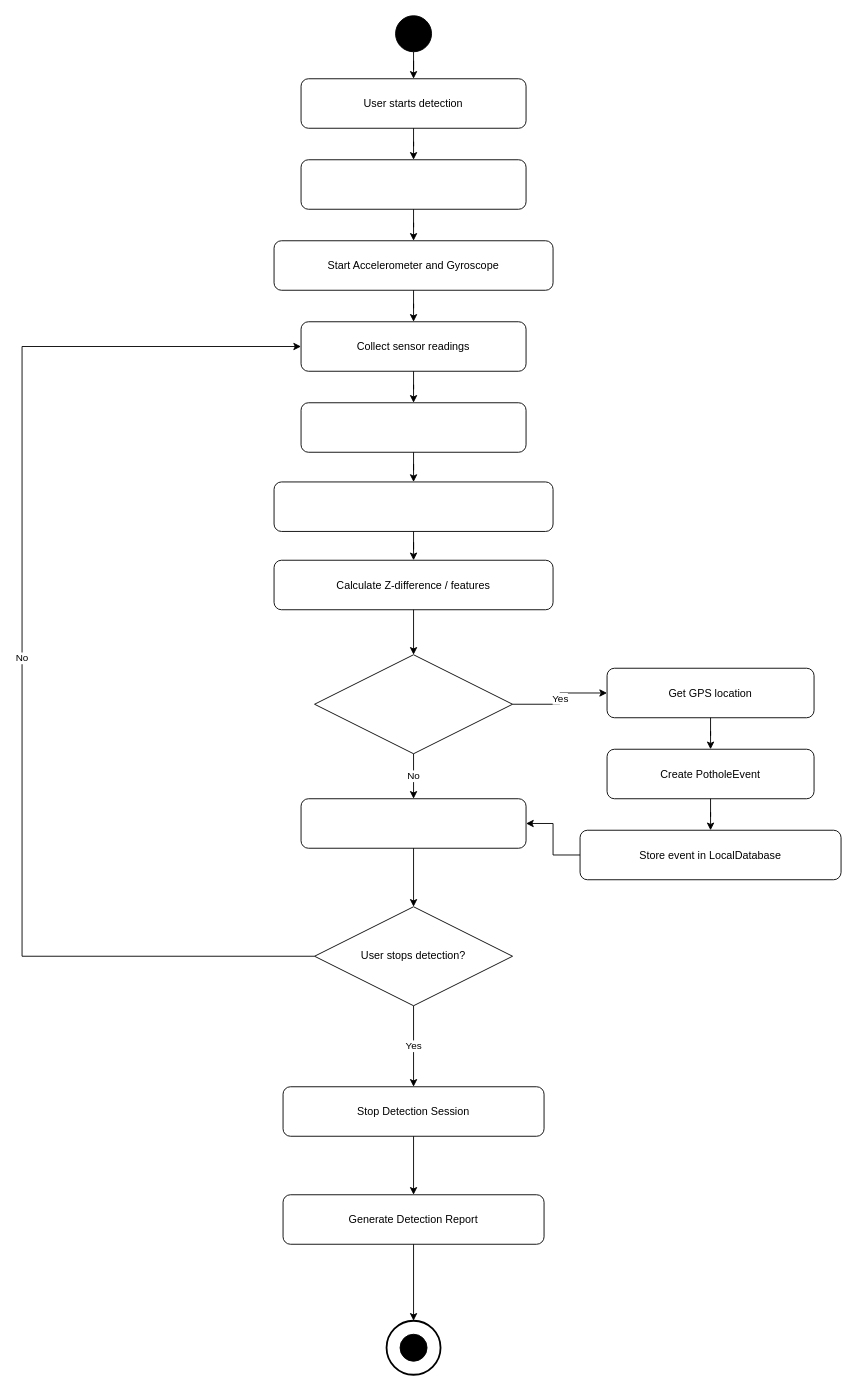
Image size: 857x1391. Some labels were removed from this diagram. Each missing label, with the centre of its shape:
Continue monitoring: the point at 413,823
Create SensorData: the point at 413,427
Pothole detected?: the point at 413,704
Process and filter sensor data: the point at 413,506
Start Detection Session: the point at 413,184
